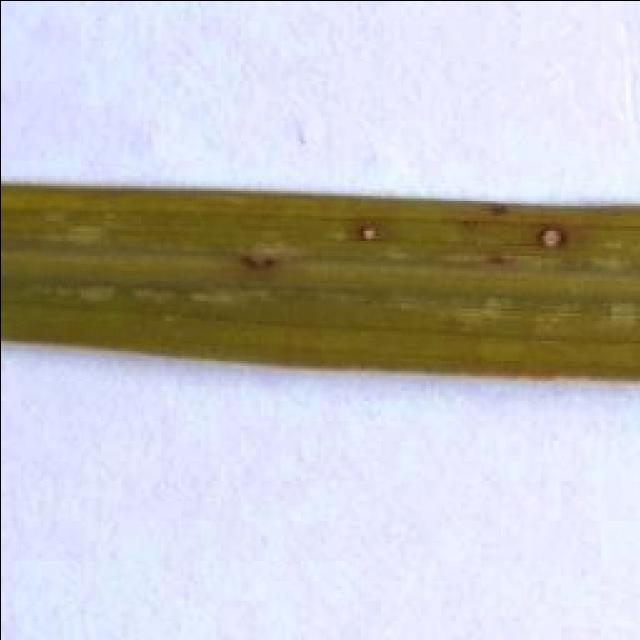Unhealthy: (239, 251, 282, 270), (537, 225, 566, 253), (357, 224, 382, 243), (485, 202, 512, 215)
